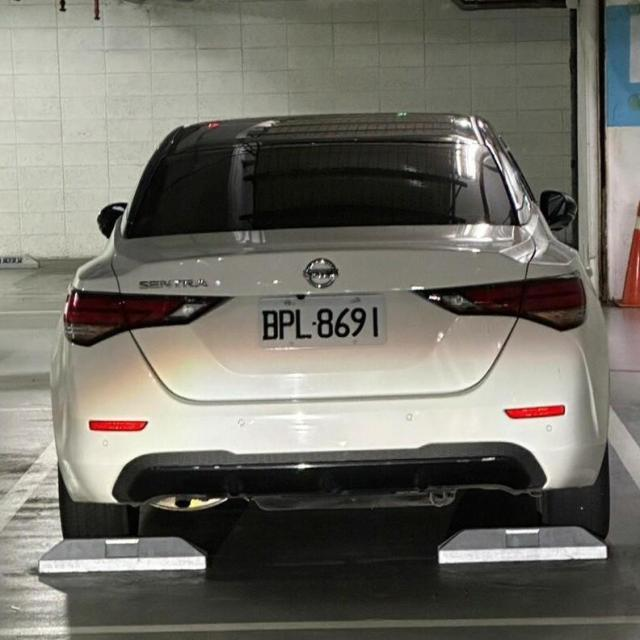W: (251, 282, 395, 360)
